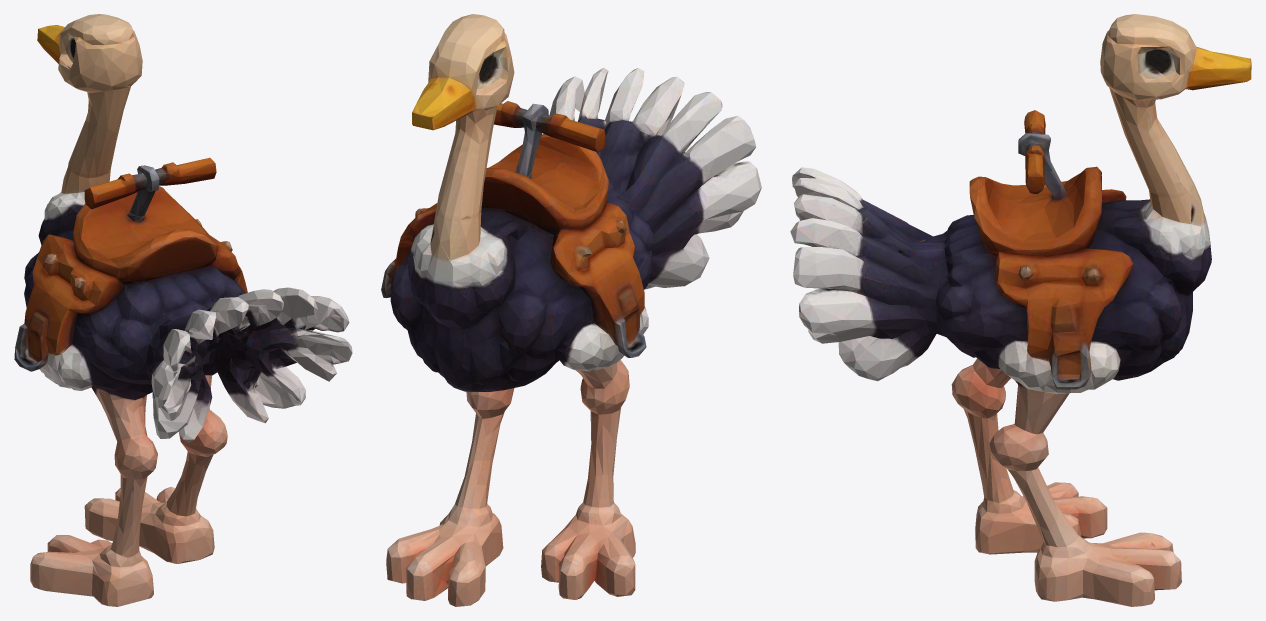
File: cs_v_struzzo.glb
The picture shows the model from 3 angles, left to right: view 1: azimuth 30°, elevation 25°; view 2: azimuth 150°, elevation 25°; view 3: azimuth 270°, elevation 25°; orthographic projection. The views are drawn at different scales.
Visible parts, largest first — view 1: v_struzzo, gamba_s, gamba_d; view 2: v_struzzo, gamba_s, gamba_d; view 3: v_struzzo, gamba_d, gamba_s.
Part boxes in pixels (x1,y1,x2,y2): v_struzzo: [14, 14, 352, 442]; gamba_s: [30, 391, 157, 606]; gamba_d: [90, 375, 227, 563]; v_struzzo: [381, 14, 761, 391]; gamba_s: [456, 360, 635, 605]; gamba_d: [386, 388, 514, 606]; v_struzzo: [790, 14, 1251, 394]; gamba_d: [989, 372, 1181, 606]; gamba_s: [951, 358, 1107, 554].
Bounding box in the file's own units: 1.21 × 2.62 × 2.
Materials: 1 (1 with a texture image).
